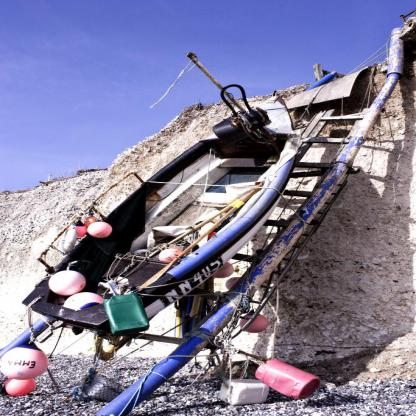Ball: (0, 348, 52, 379), (49, 270, 86, 293), (60, 293, 102, 311), (1, 374, 35, 396), (241, 312, 269, 334), (86, 220, 110, 236), (155, 250, 180, 262), (218, 262, 234, 280)
